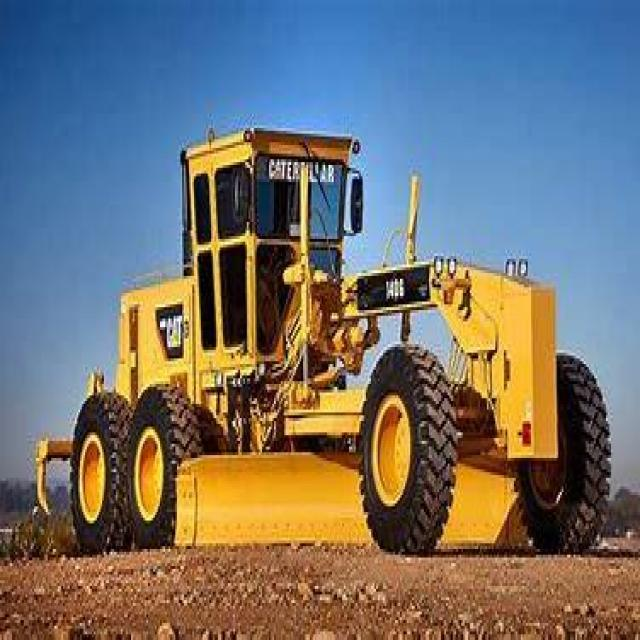Grader: (35, 120, 608, 558)
